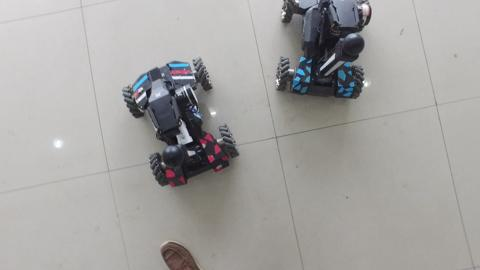chariot: (123, 52, 243, 191), (266, 1, 377, 100)
